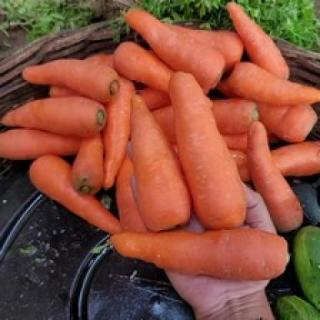Wortel: (167, 71, 249, 228), (108, 228, 289, 281)
